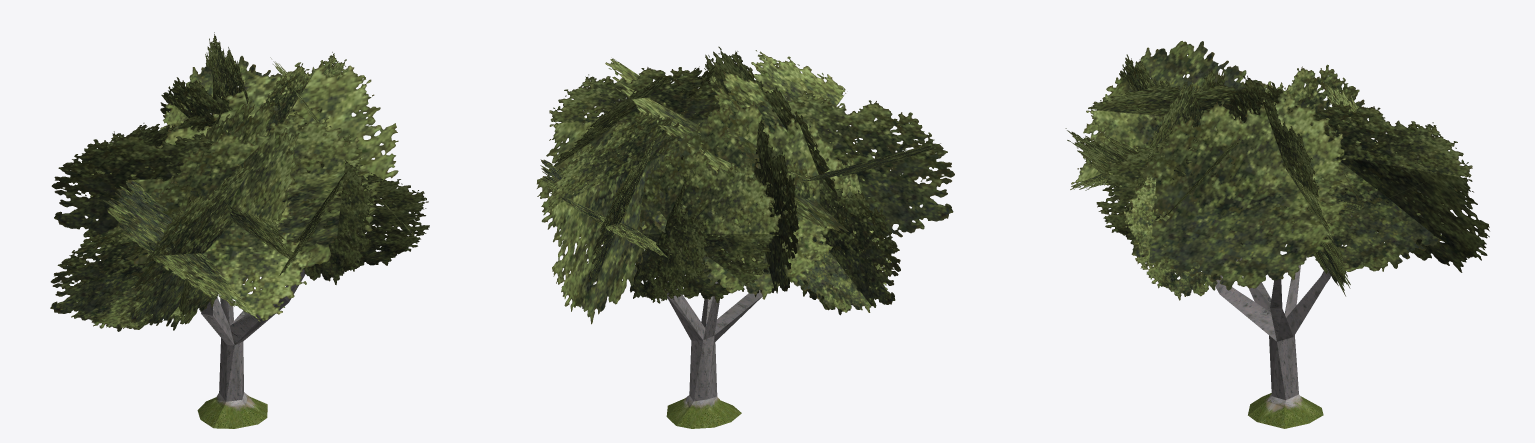
The model's file is veg_bevtree2.obj.
3 views of the same model, side by side, from view 1: azimuth 30°, elevation 25°; view 2: azimuth 150°, elevation 25°; view 3: azimuth 270°, elevation 25° (orthographic). The views are drawn at different scales.
Visible parts, largest first — view 1: veg_bevtree2; view 2: veg_bevtree2; view 3: veg_bevtree2.
Part boxes in pixels (x1,y1,x2,y2): veg_bevtree2: [50, 32, 429, 428]; veg_bevtree2: [537, 46, 954, 428]; veg_bevtree2: [1065, 41, 1489, 428].
Size of the model in its own units: 53.85 by 47.73 by 57.98.
